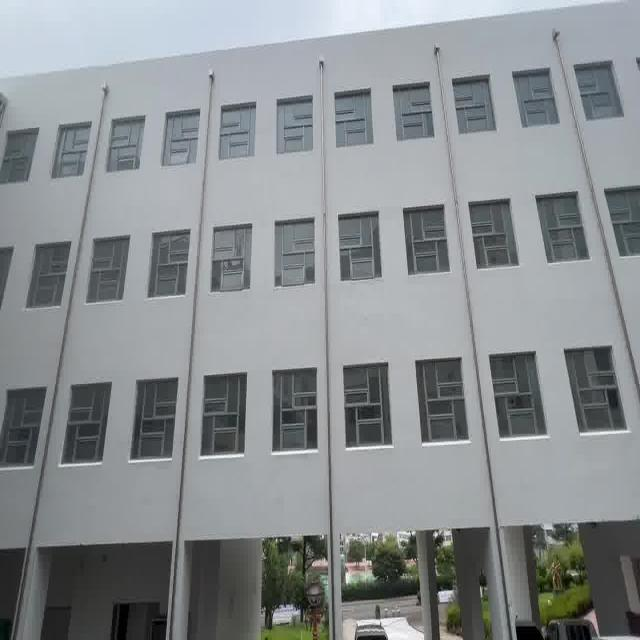building: (17, 60, 628, 513)
